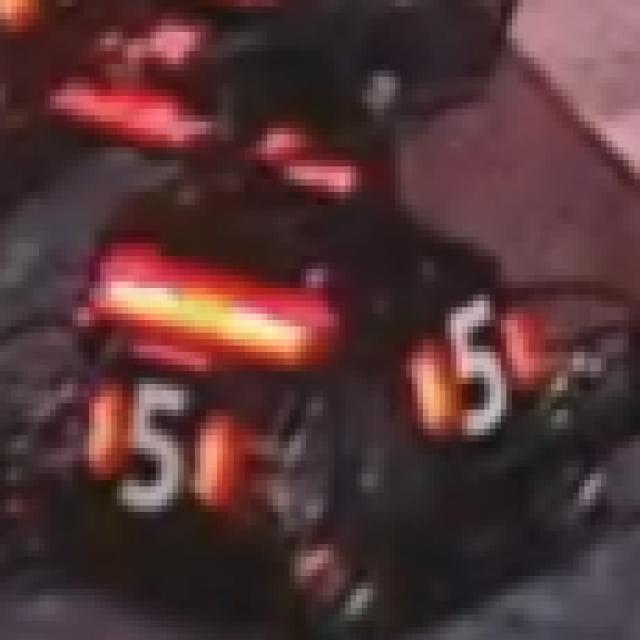R5: (67, 371, 234, 512), (417, 294, 540, 442)
